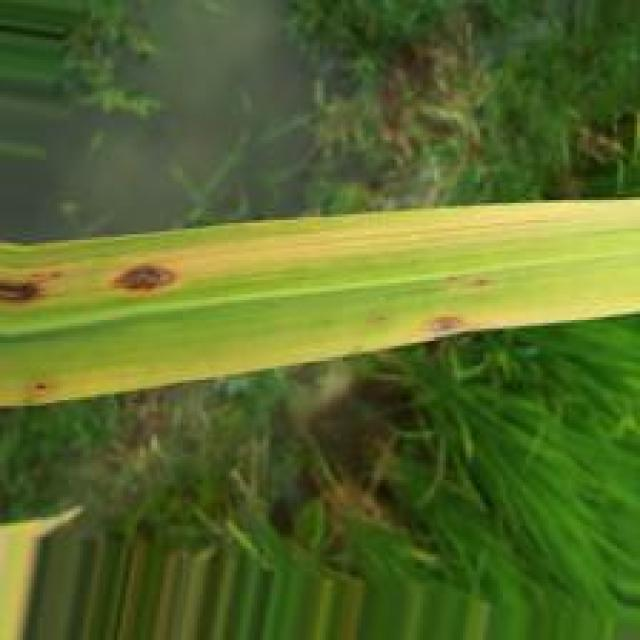Brown_Spot: (106, 258, 184, 297), (2, 274, 56, 308), (425, 312, 471, 335), (32, 382, 52, 395)
